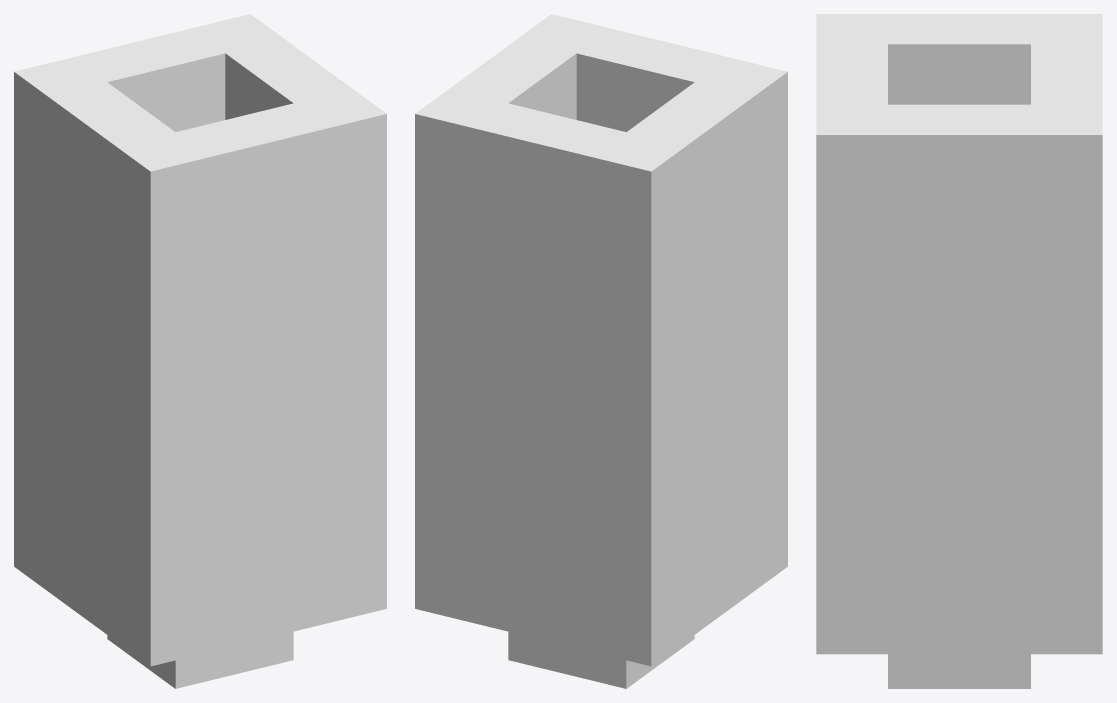
The model's file is FlavorBottle.obj.
3 renders of one model, left to right at view 1: azimuth 30°, elevation 25°; view 2: azimuth 150°, elevation 25°; view 3: azimuth 270°, elevation 25°, orthographic. The views are drawn at different scales.
Bounding box in the file's own units: 0.4 × 0.9 × 0.4.
Materials: 1 (1 with a texture image).
